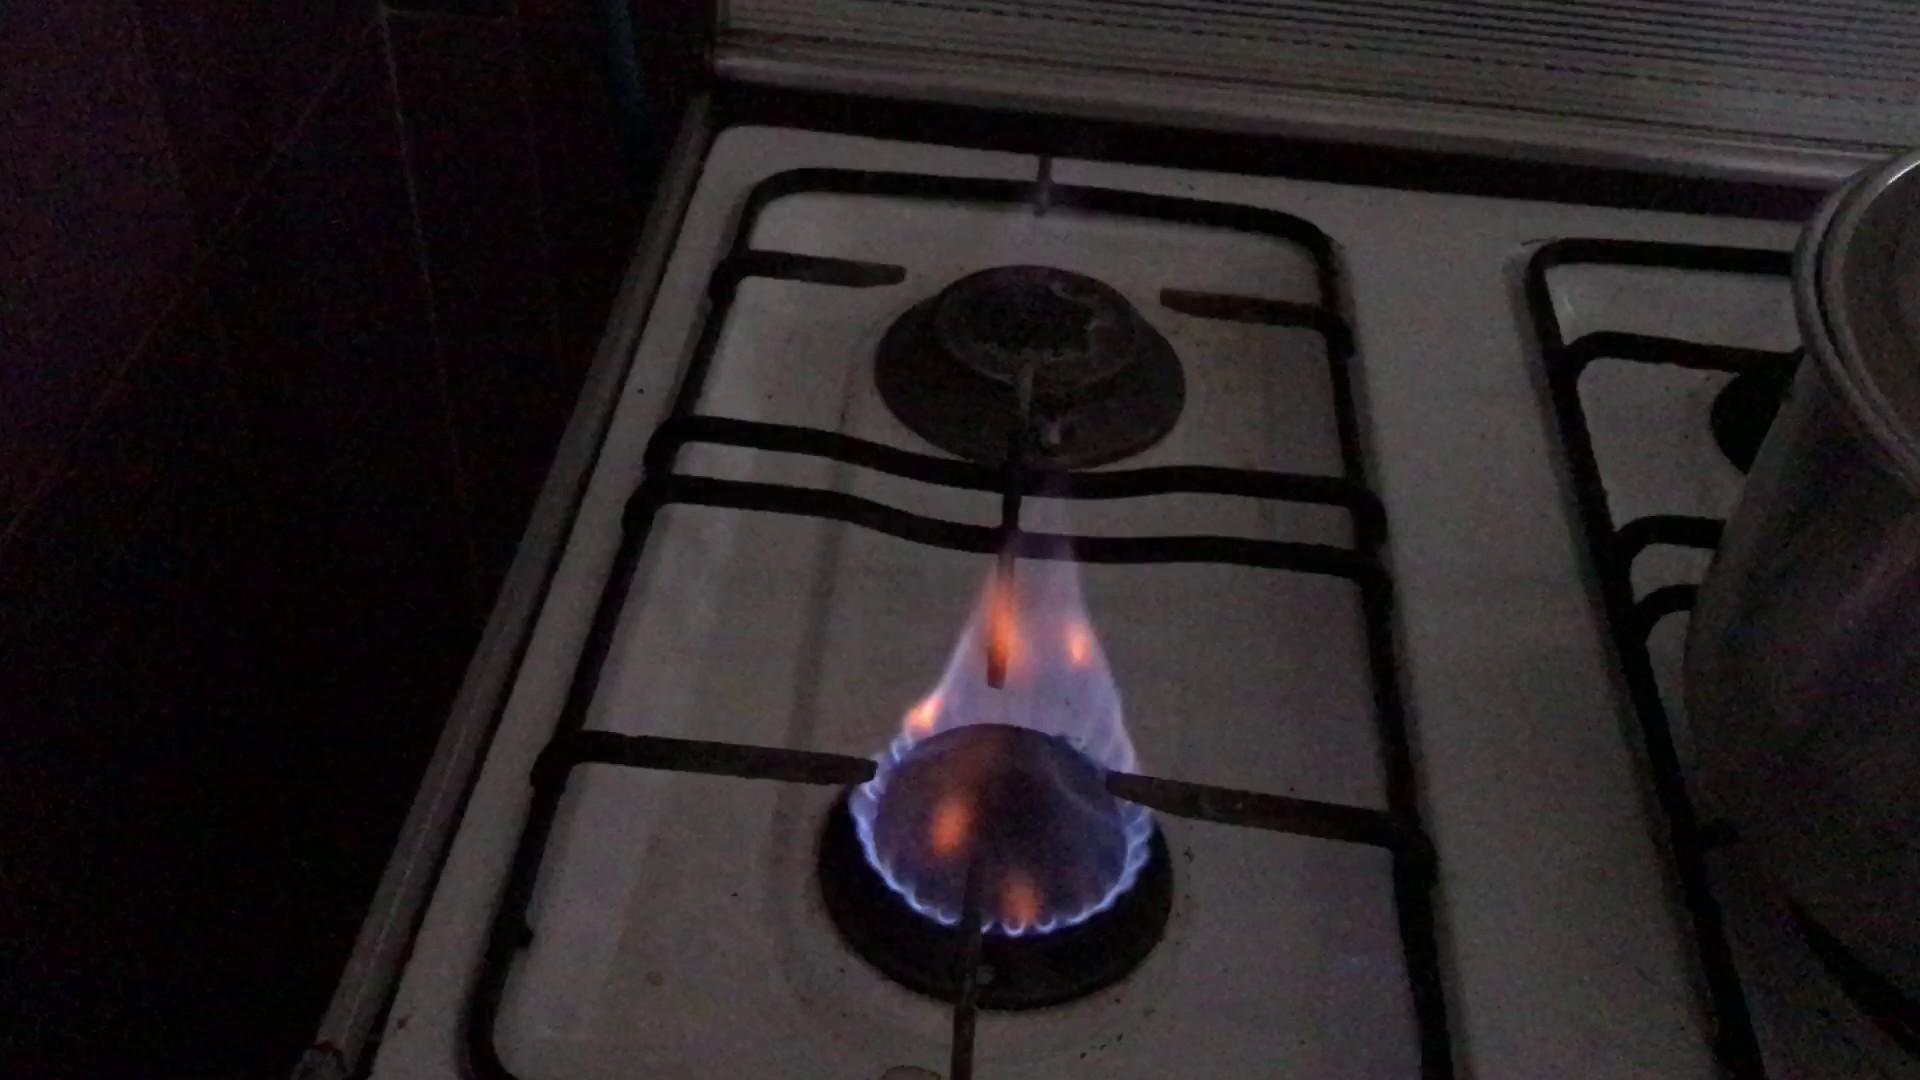fire: (847, 526, 1163, 936)
